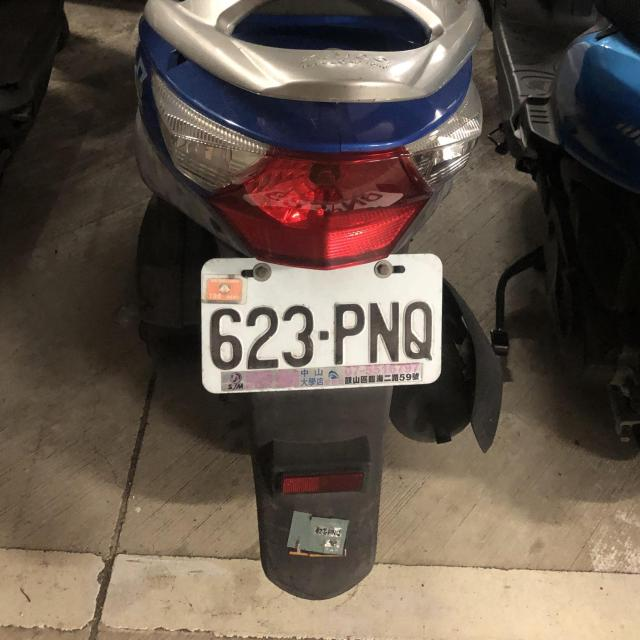W: (196, 248, 446, 398)
